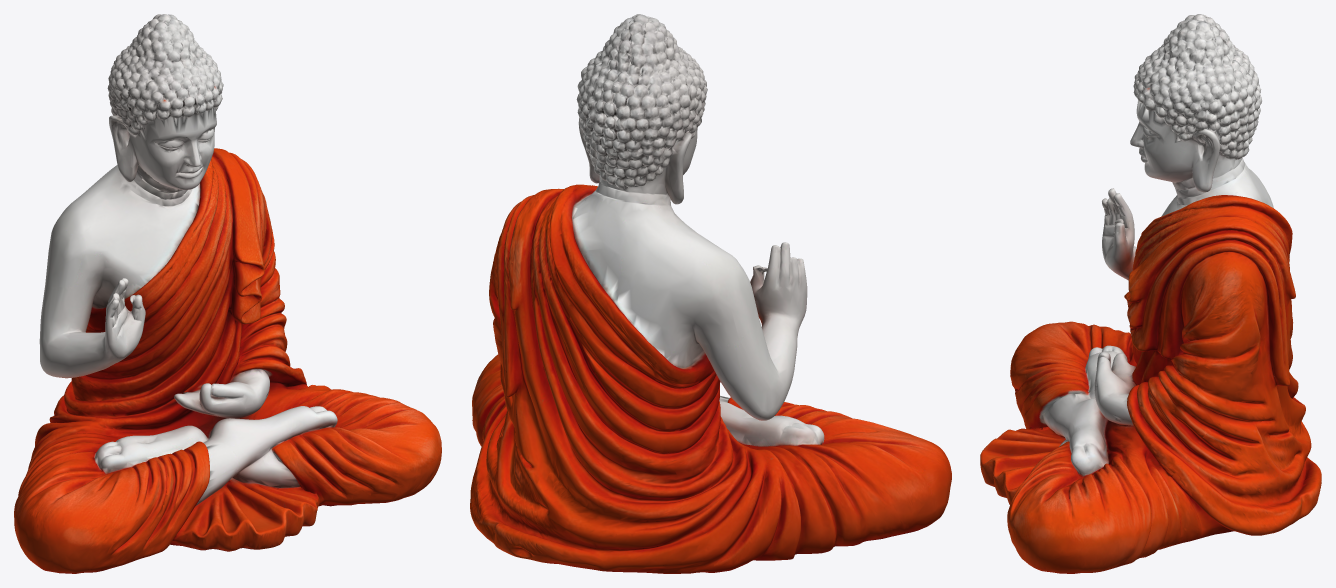
The model's file is buddha_6.glb.
The picture shows the model from 3 angles, left to right: view 1: azimuth 30°, elevation 25°; view 2: azimuth 150°, elevation 25°; view 3: azimuth 270°, elevation 25°; orthographic projection. The views are drawn at different scales.
Parts seen in each view (by area): view 1: tripo_node_dcbbe255-6e36-423f-a3e2-a0e89ee9ab74; view 2: tripo_node_dcbbe255-6e36-423f-a3e2-a0e89ee9ab74; view 3: tripo_node_dcbbe255-6e36-423f-a3e2-a0e89ee9ab74.
Boxes of the visible parts, x1,y1,x2,y2 form: tripo_node_dcbbe255-6e36-423f-a3e2-a0e89ee9ab74: (14, 14, 441, 573); tripo_node_dcbbe255-6e36-423f-a3e2-a0e89ee9ab74: (470, 14, 951, 573); tripo_node_dcbbe255-6e36-423f-a3e2-a0e89ee9ab74: (980, 14, 1321, 573).
Bounding box in the file's own units: 0.916 × 0.9796 × 0.6506.
Materials: 1 (1 with a texture image).
